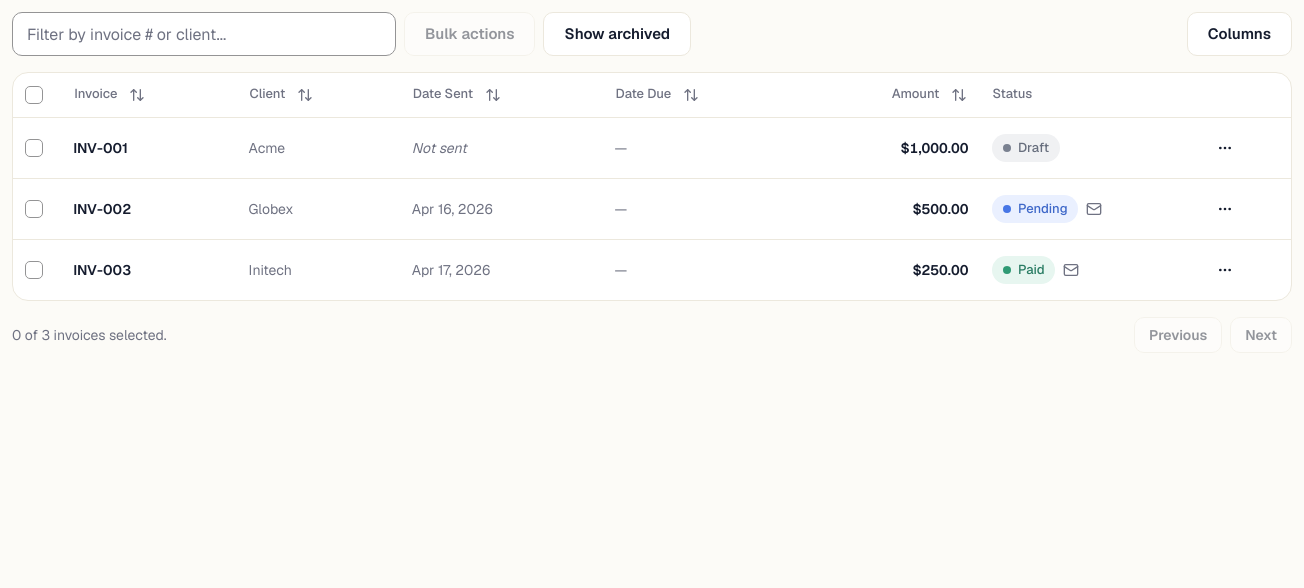
Test: InvoiceDataTable — per-row actions › does not show 'Mark as overdue' on paid rows
The image size is (1304, 588).
Click the button named "open menu" in the row of "INV-003" at [1225, 270], box [1207, 252, 1243, 288]
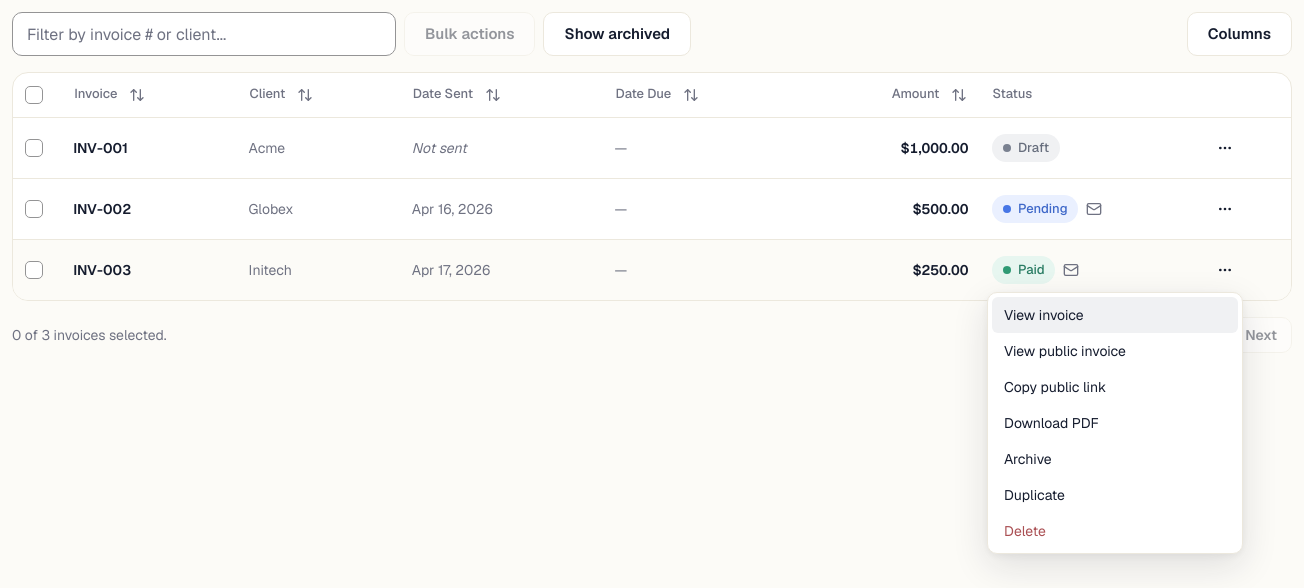
Expected: the menu item "View public invoice" is shown, [1004, 342, 1126, 360]
